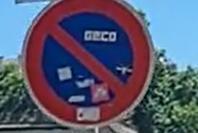estacionamento proibido: (19, 2, 157, 127)
